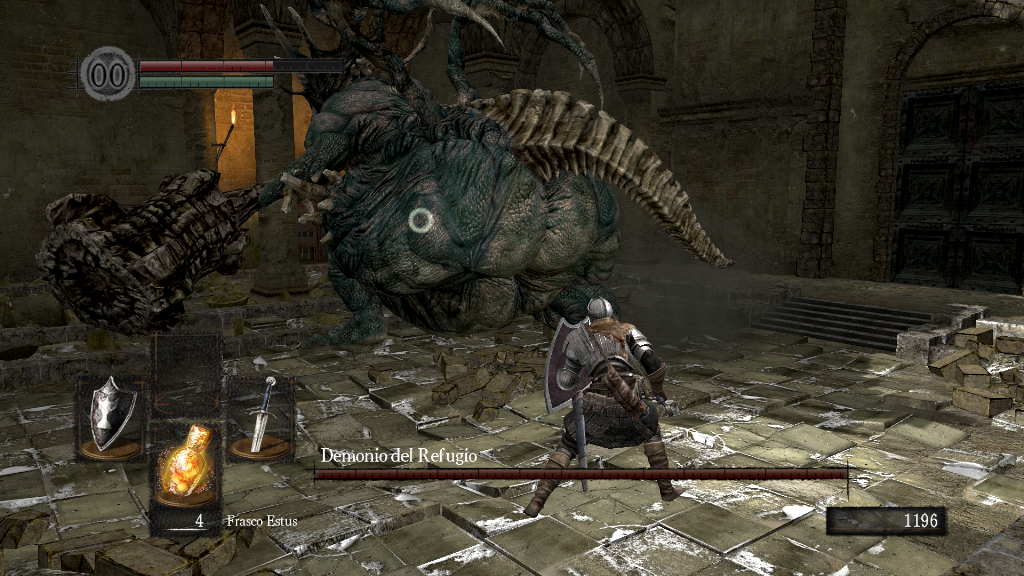asylumDemon: (253, 2, 737, 345)
bossHP: (314, 469, 847, 479)
health: (138, 58, 343, 71)
humanity: (80, 45, 136, 102)
player: (522, 296, 682, 519)
souls: (825, 506, 945, 536)
stamina: (138, 74, 274, 88)
